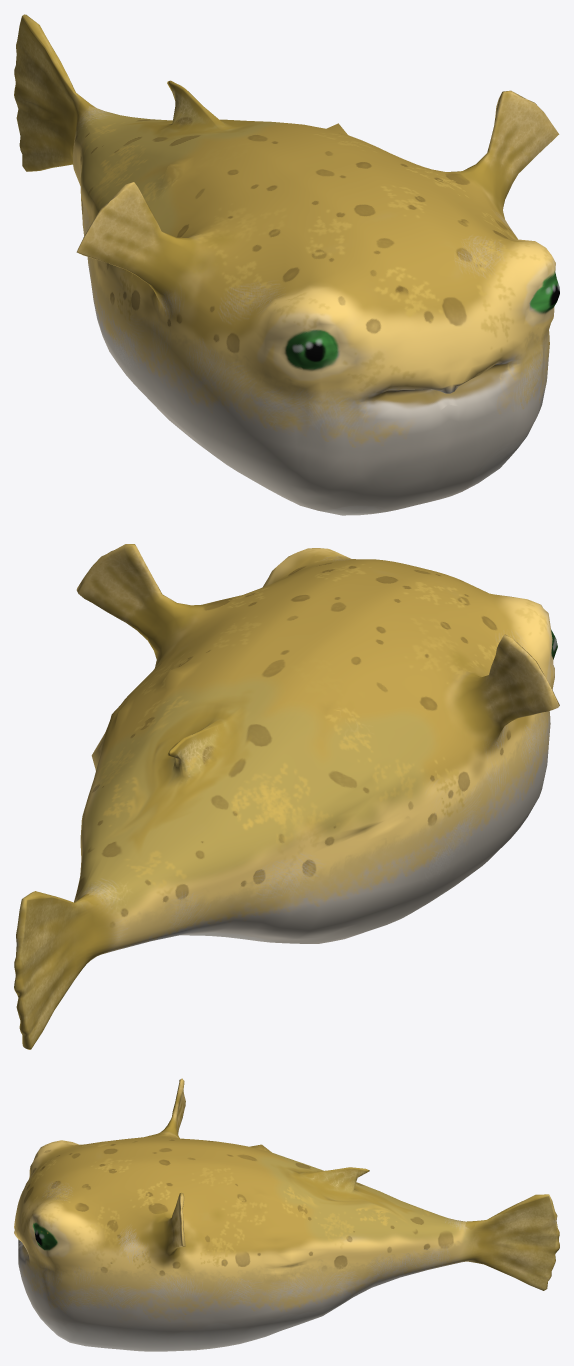
Rendered from pezGlobo.obj.
3 views of the same model, one above another, from view 1: azimuth 30°, elevation 25°; view 2: azimuth 150°, elevation 25°; view 3: azimuth 270°, elevation 25° (orthographic). The views are drawn at different scales.
Visible parts, largest first — view 1: RetopoGroup1; view 2: RetopoGroup1; view 3: RetopoGroup1.
Boxes of the visible parts, x1,y1,x2,y2 form: RetopoGroup1: [14, 14, 559, 515]; RetopoGroup1: [14, 544, 559, 1049]; RetopoGroup1: [14, 1078, 559, 1351].
Bounding box in the file's own units: 39.76 × 24.87 × 62.46.
1 material, 1 textured.
